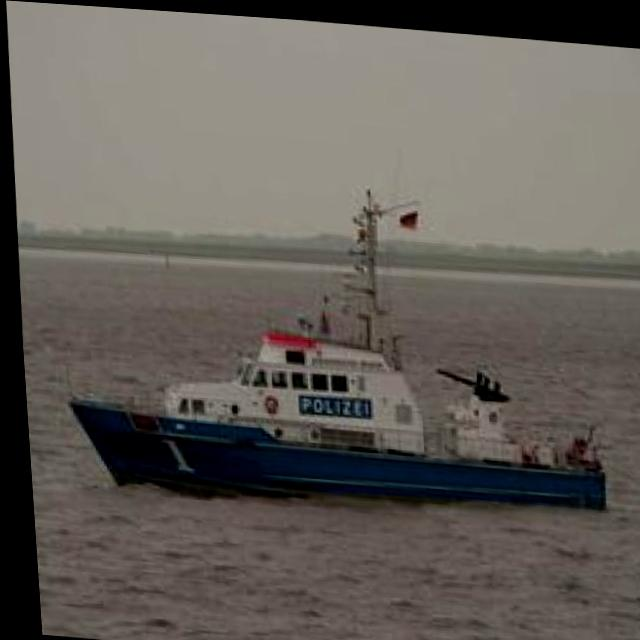ship2: (67, 191, 600, 503)
